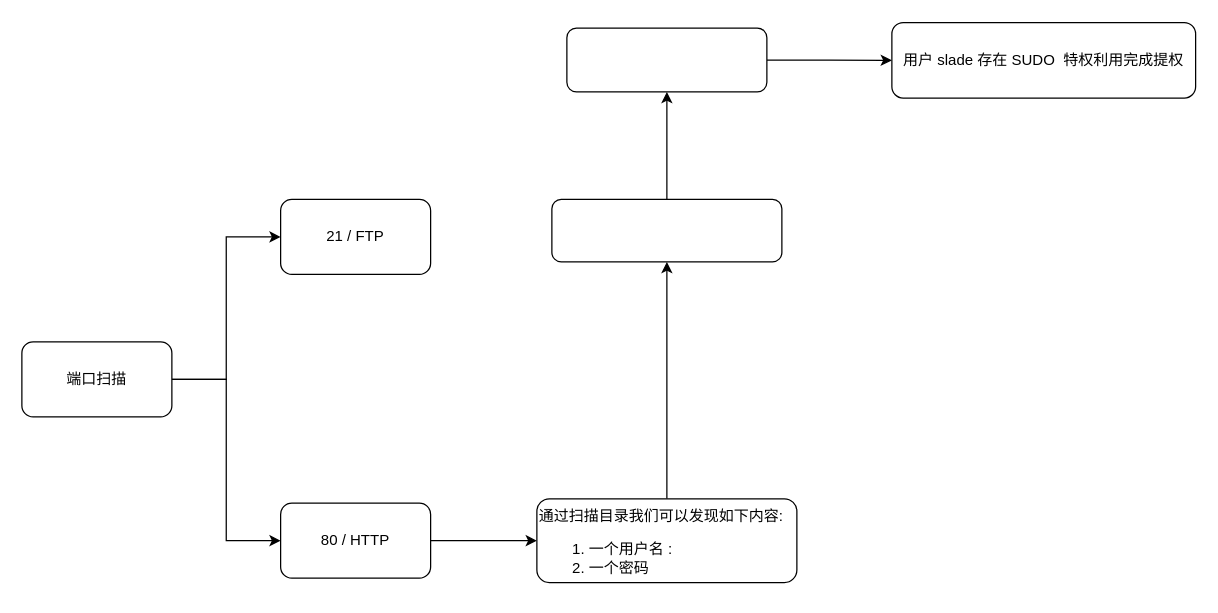
The diagram is 1218 pixels wide and 613 high, and some of its shapes have lost their labels. The shapes that lost their labels are listed below. From the top down, each one's centre as x and y in pixels, then its label:
At [666,59]: "登陆 slade 用户的账号".
At [666,230]: "登陆之后, 我们可以再次获取到一个照片, 存在文件隐写我们可以获取到一个密码".
